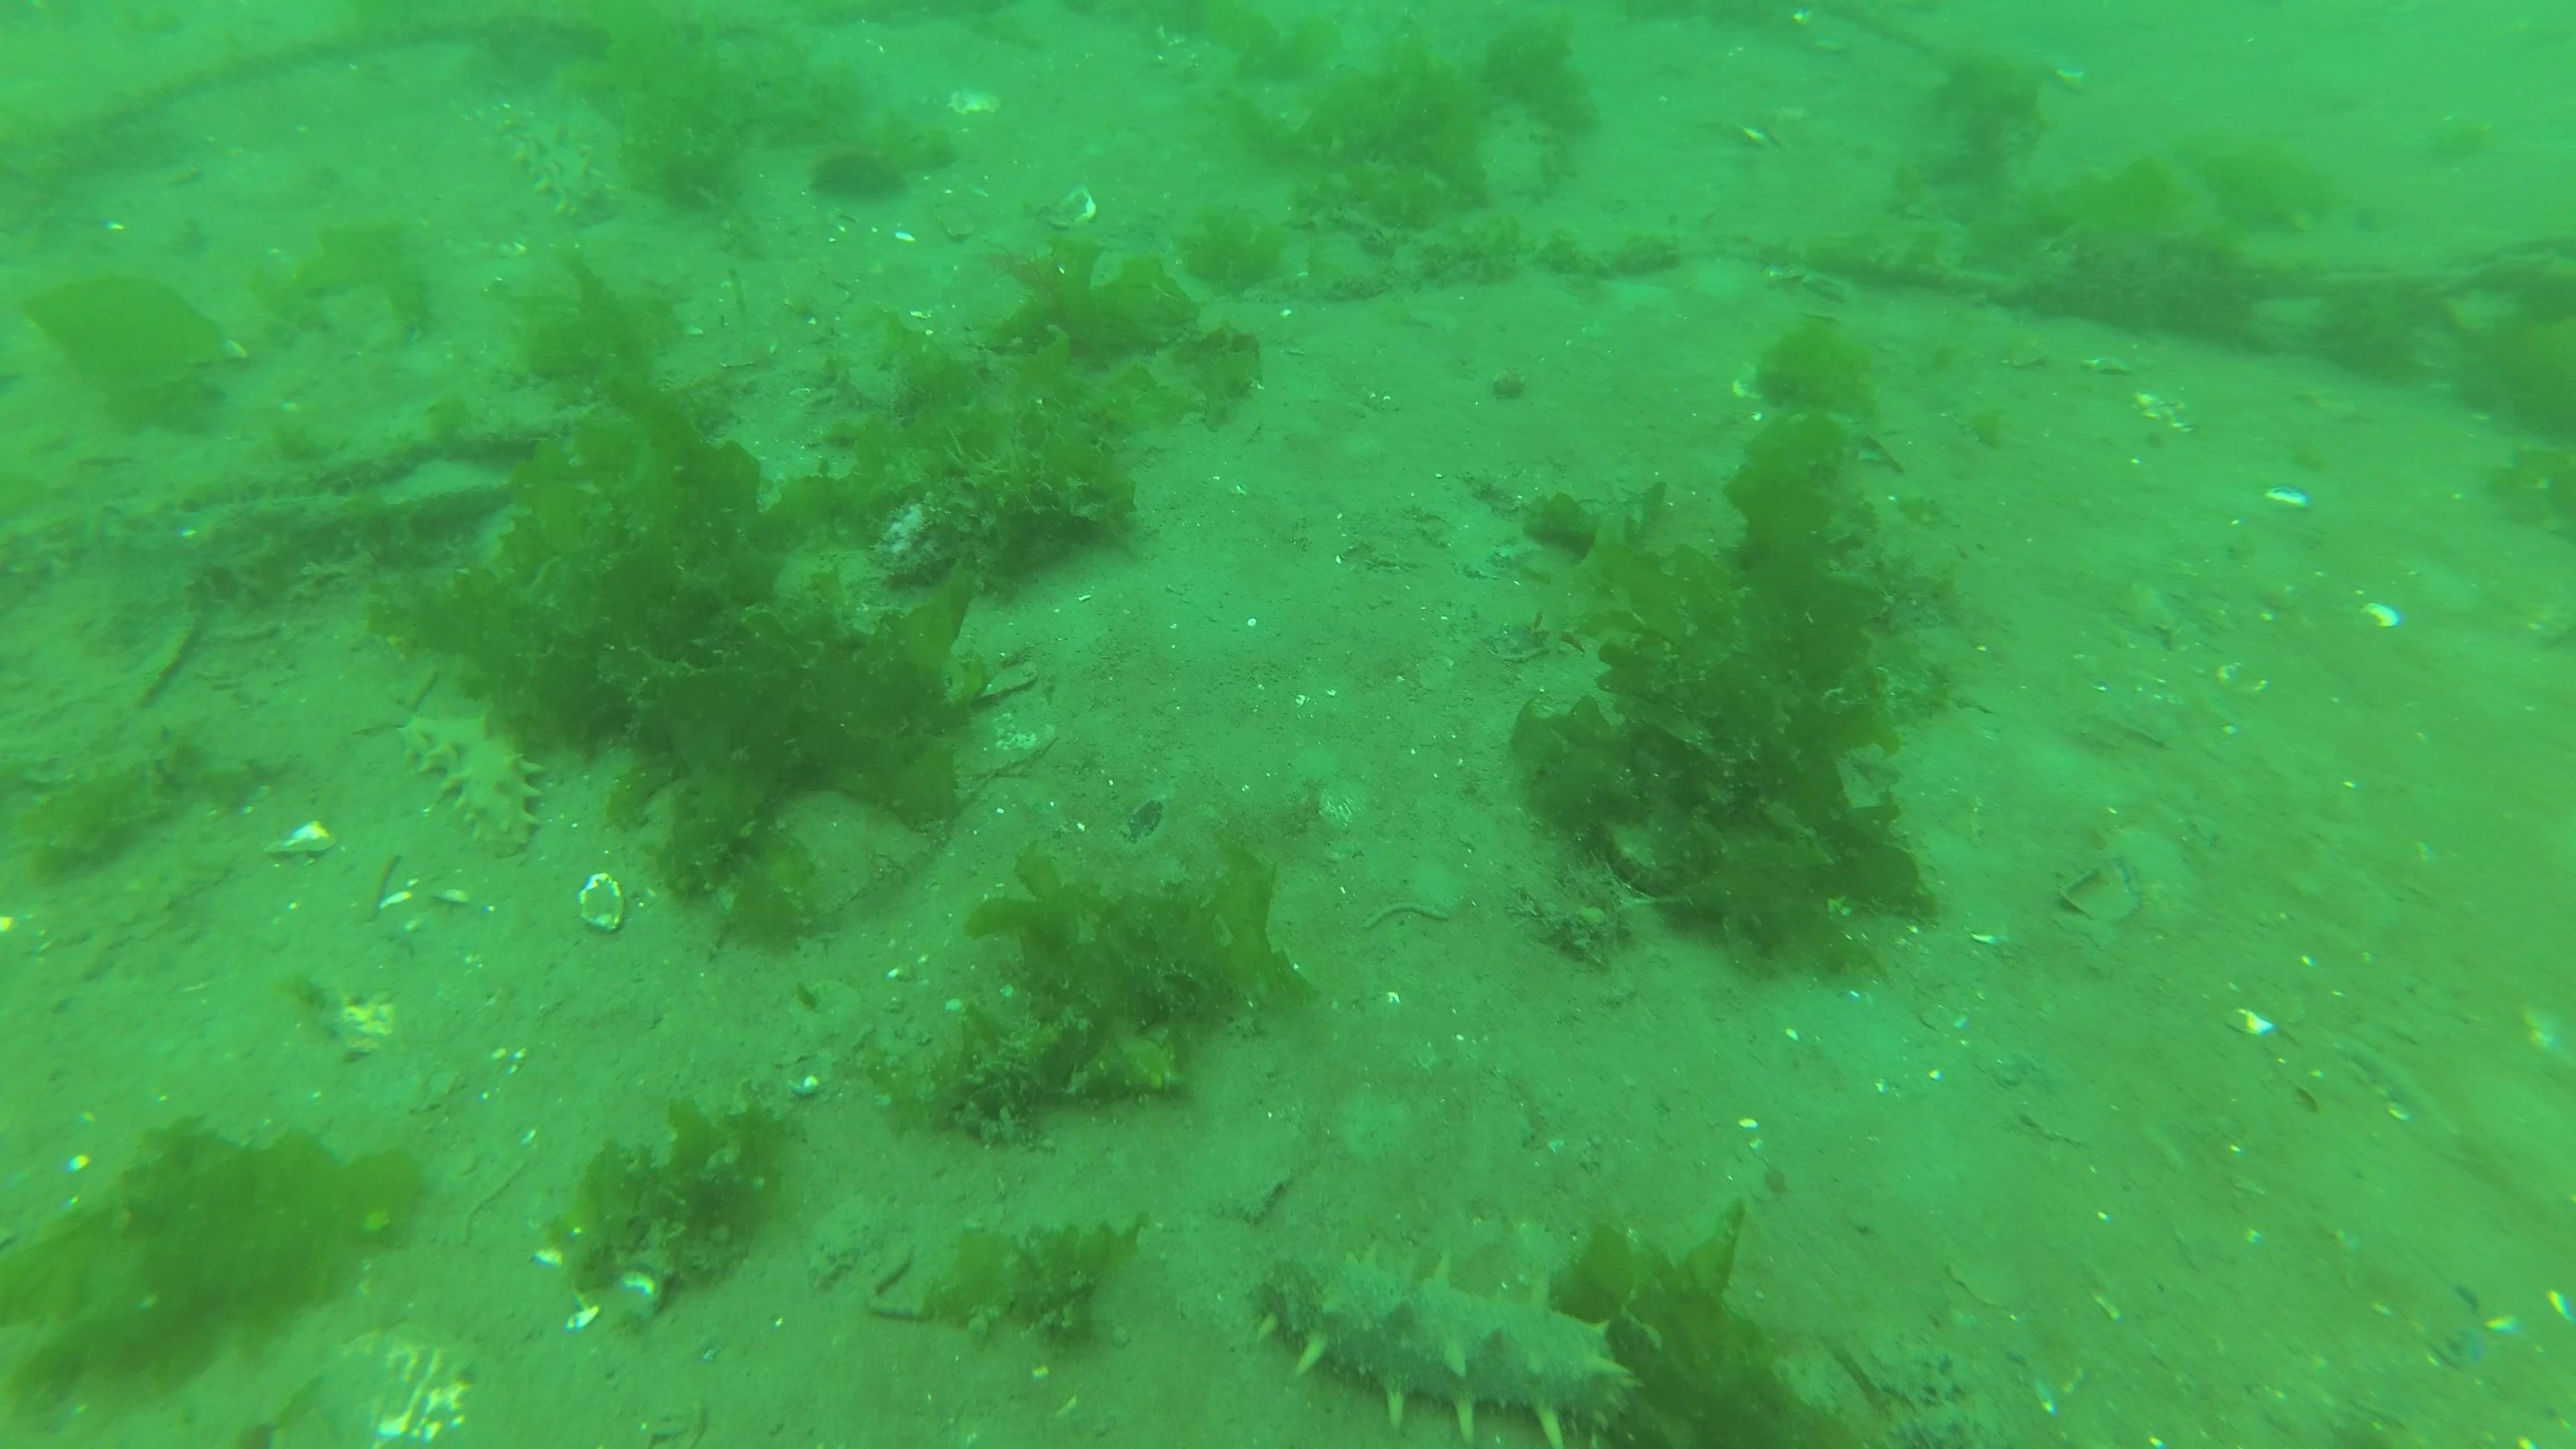holothurian: (1256, 1237, 1644, 1449), (393, 708, 548, 858), (504, 115, 619, 228)
